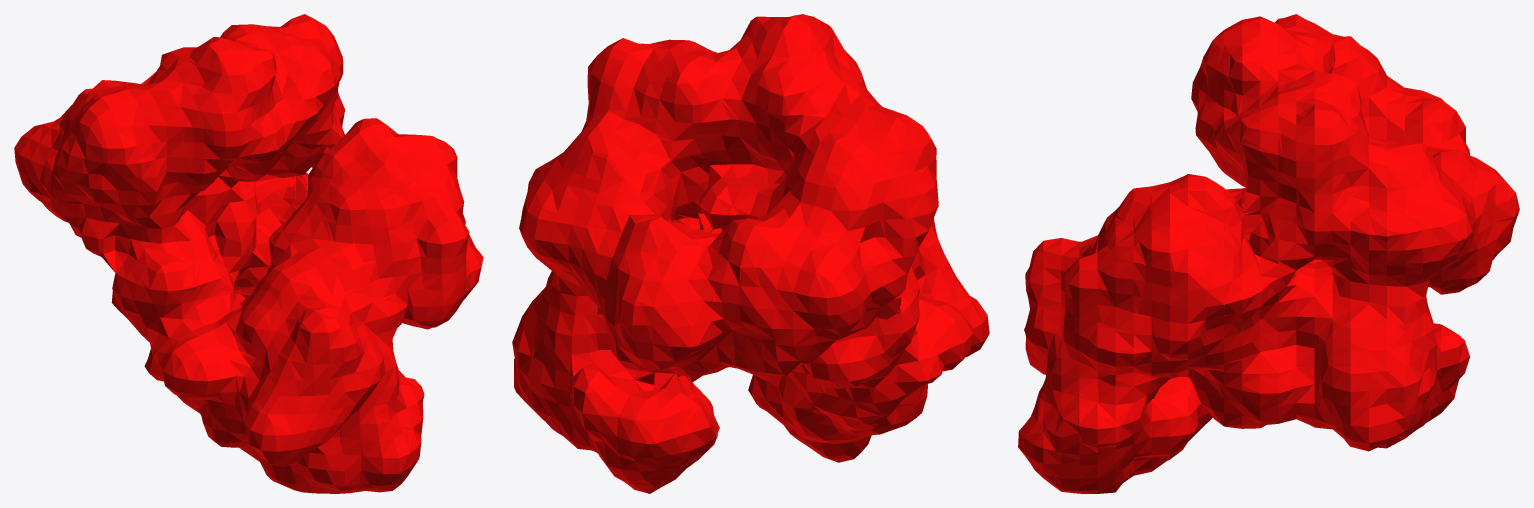
Rendered from dnaQ_coarse.dae.
3 views of the same model, side by side, from view 1: azimuth 30°, elevation 25°; view 2: azimuth 150°, elevation 25°; view 3: azimuth 270°, elevation 25° (orthographic). The views are drawn at different scales.
Visible parts, largest first — view 1: dnaQ; view 2: dnaQ; view 3: dnaQ.
Boxes of the visible parts, <box> form: dnaQ: <box>14,14,483,493</box>; dnaQ: <box>512,14,989,493</box>; dnaQ: <box>1018,14,1519,493</box>.
Bounding box in the file's own units: 106 × 123 × 126.
